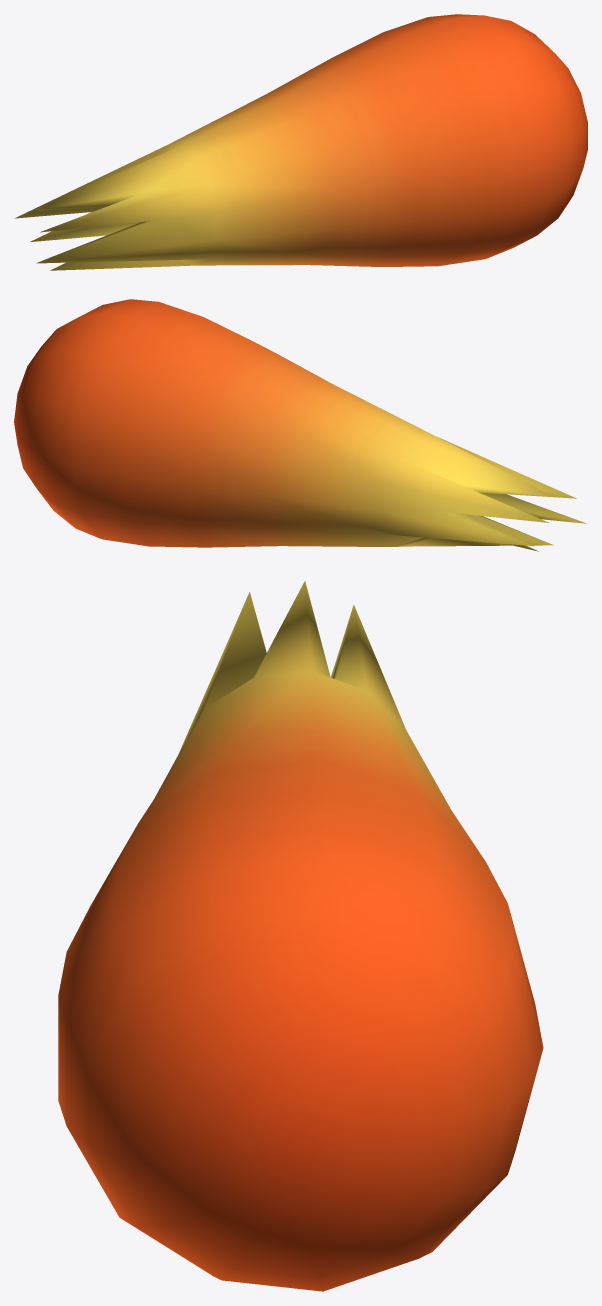
Rendered from fireball2.obj.
3 renders of one model, top to bottom at view 1: azimuth 30°, elevation 25°; view 2: azimuth 150°, elevation 25°; view 3: azimuth 270°, elevation 25°, orthographic. The views are drawn at different scales.
Parts seen in each view (by area): view 1: Vertex_Object; view 2: Vertex_Object; view 3: Vertex_Object.
Part boxes in pixels (left/top/right/bottom): Vertex_Object: left=14, top=14, right=587, bottom=270; Vertex_Object: left=14, top=299, right=587, bottom=551; Vertex_Object: left=58, top=581, right=543, bottom=1291.
Size of the model in its own units: 153 by 59.56 by 59.13.
Materials: 1 (1 with a texture image).
